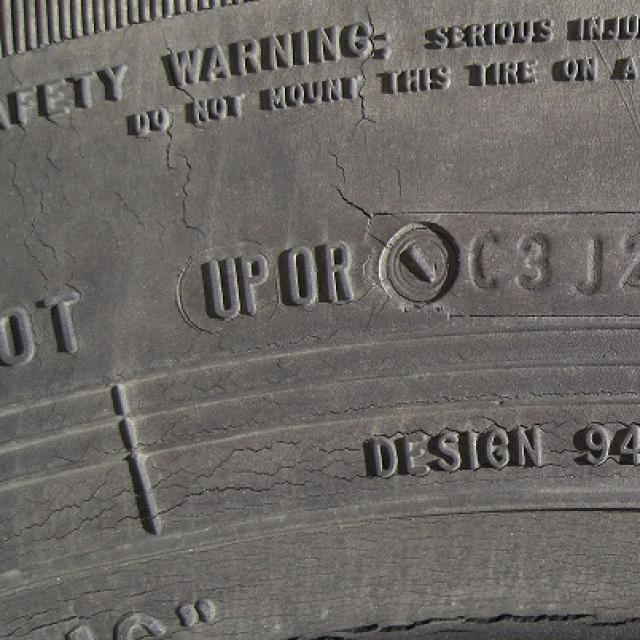Cracks: (0, 0, 640, 345), (0, 378, 638, 638)
